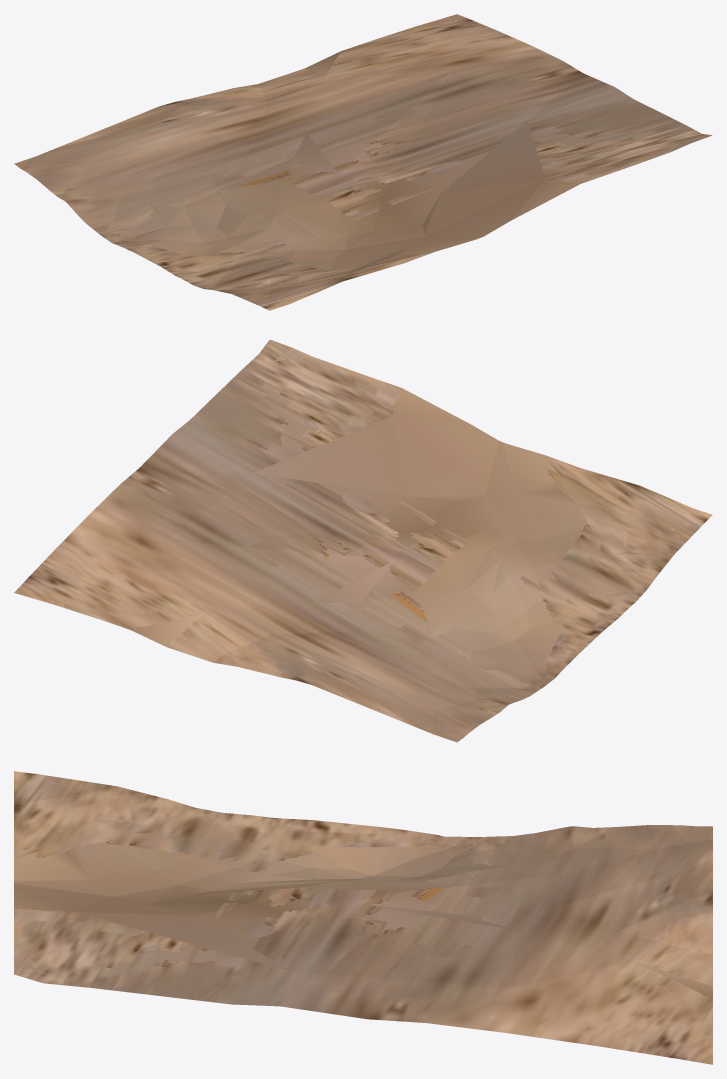
The picture shows the model from 3 angles, top to bottom: view 1: azimuth 30°, elevation 25°; view 2: azimuth 150°, elevation 25°; view 3: azimuth 270°, elevation 25°; orthographic projection. The views are drawn at different scales.
Size of the model in its own units: 1.04 by 0.2651 by 1.04.
Materials: 2 (2 with a texture image).
